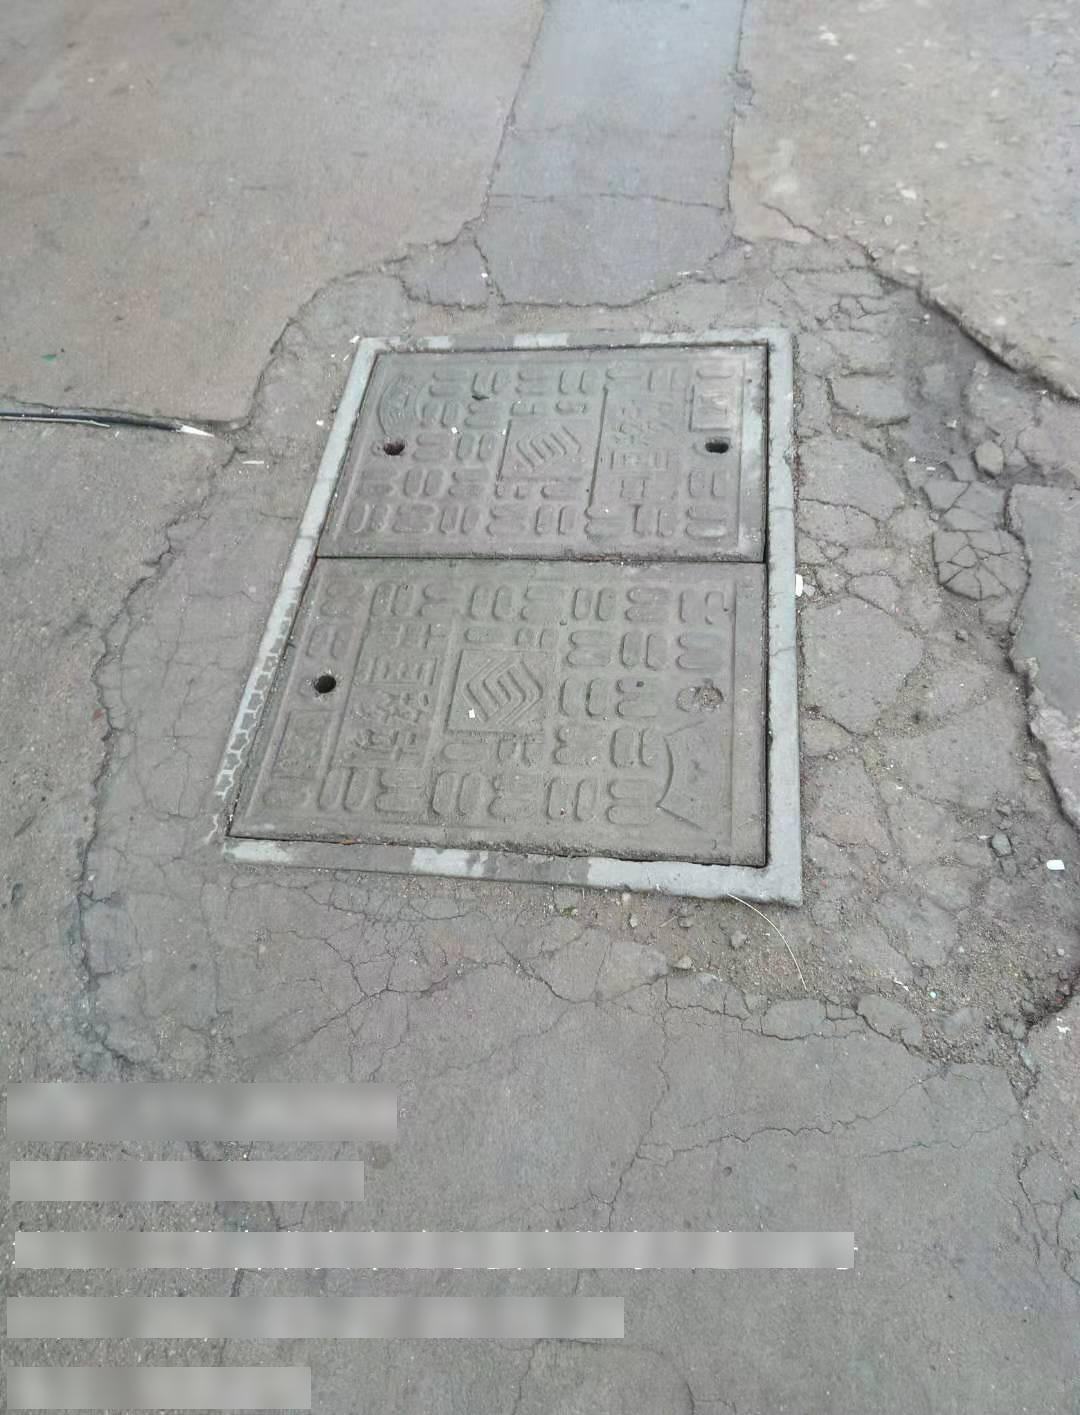wellcover: (218, 301, 836, 929)
